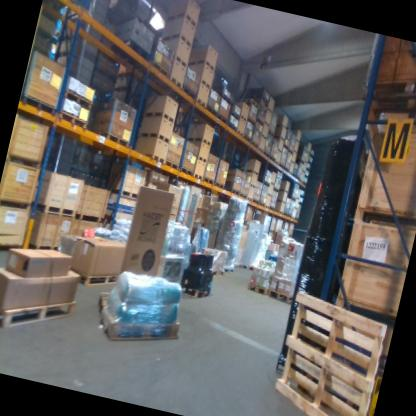pallet: (265, 286, 394, 416), (0, 281, 79, 345), (97, 302, 185, 355), (106, 37, 154, 73), (71, 264, 122, 293), (19, 93, 60, 121), (56, 88, 97, 112), (177, 280, 213, 305), (94, 129, 131, 151), (159, 27, 196, 49), (56, 110, 91, 133), (165, 7, 201, 29), (135, 127, 171, 146), (142, 107, 178, 126), (109, 183, 140, 203), (187, 55, 218, 73), (94, 289, 111, 318), (267, 288, 294, 305), (41, 0, 73, 14), (140, 150, 167, 165), (238, 94, 263, 110), (185, 132, 213, 146), (244, 281, 270, 296), (165, 73, 186, 91), (167, 54, 191, 69), (207, 266, 225, 282), (181, 86, 199, 100), (163, 158, 181, 171), (240, 166, 260, 177), (178, 166, 194, 178), (198, 78, 213, 90), (202, 174, 217, 186), (223, 186, 240, 196), (219, 93, 233, 105), (205, 105, 218, 117), (194, 98, 208, 109), (221, 266, 235, 277), (215, 112, 229, 123), (229, 110, 241, 122), (191, 172, 204, 182), (213, 180, 225, 190), (226, 122, 238, 132), (196, 155, 208, 164), (255, 117, 264, 129), (273, 135, 285, 144), (238, 113, 248, 123), (246, 116, 256, 126), (242, 135, 252, 145), (278, 187, 289, 195), (257, 201, 266, 210), (261, 151, 270, 160), (238, 191, 248, 199), (251, 141, 259, 151), (246, 265, 255, 273), (268, 226, 275, 236), (245, 195, 253, 203), (267, 131, 275, 139), (236, 130, 245, 137), (276, 199, 286, 205), (249, 182, 257, 189), (257, 147, 265, 154), (264, 120, 271, 128), (266, 108, 273, 116), (268, 155, 276, 162), (281, 144, 289, 151), (251, 200, 258, 207), (269, 180, 276, 187), (261, 134, 267, 141), (272, 188, 279, 194), (274, 160, 280, 167), (276, 148, 282, 155), (264, 205, 270, 211), (283, 212, 289, 218), (284, 166, 290, 172), (288, 170, 294, 176), (295, 138, 301, 144), (288, 214, 293, 220), (278, 164, 284, 169), (290, 160, 296, 165), (291, 174, 297, 179), (267, 193, 272, 198), (270, 207, 275, 212), (291, 215, 296, 220), (299, 179, 304, 184), (306, 150, 311, 155), (296, 176, 301, 181), (293, 206, 297, 211), (295, 197, 300, 201), (301, 170, 305, 174), (304, 160, 308, 164), (293, 151, 298, 154)
